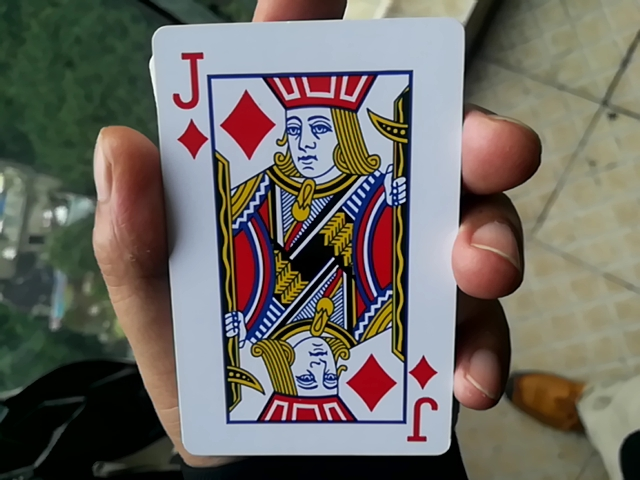fk j: (136, 18, 457, 449)
